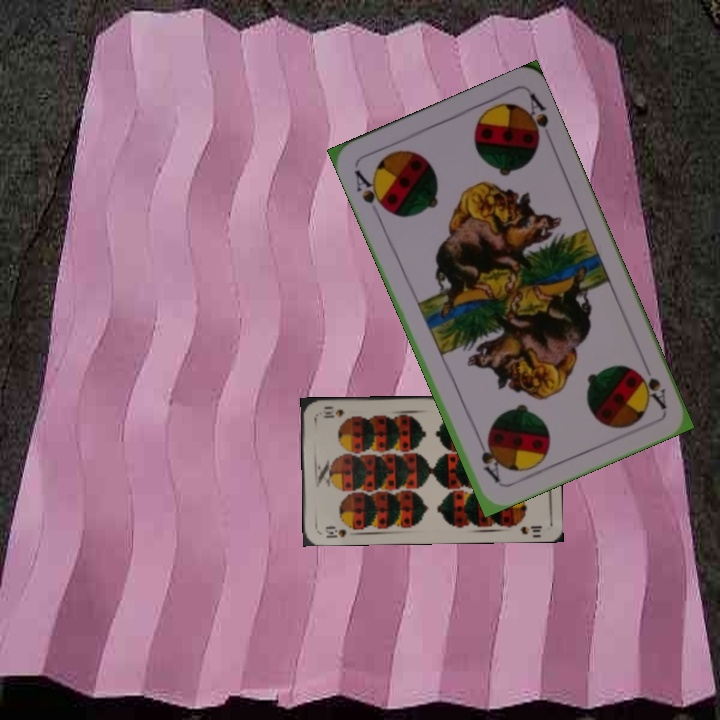S10: (321, 522, 349, 540)
SA: (631, 356, 669, 413), (350, 165, 390, 215)
